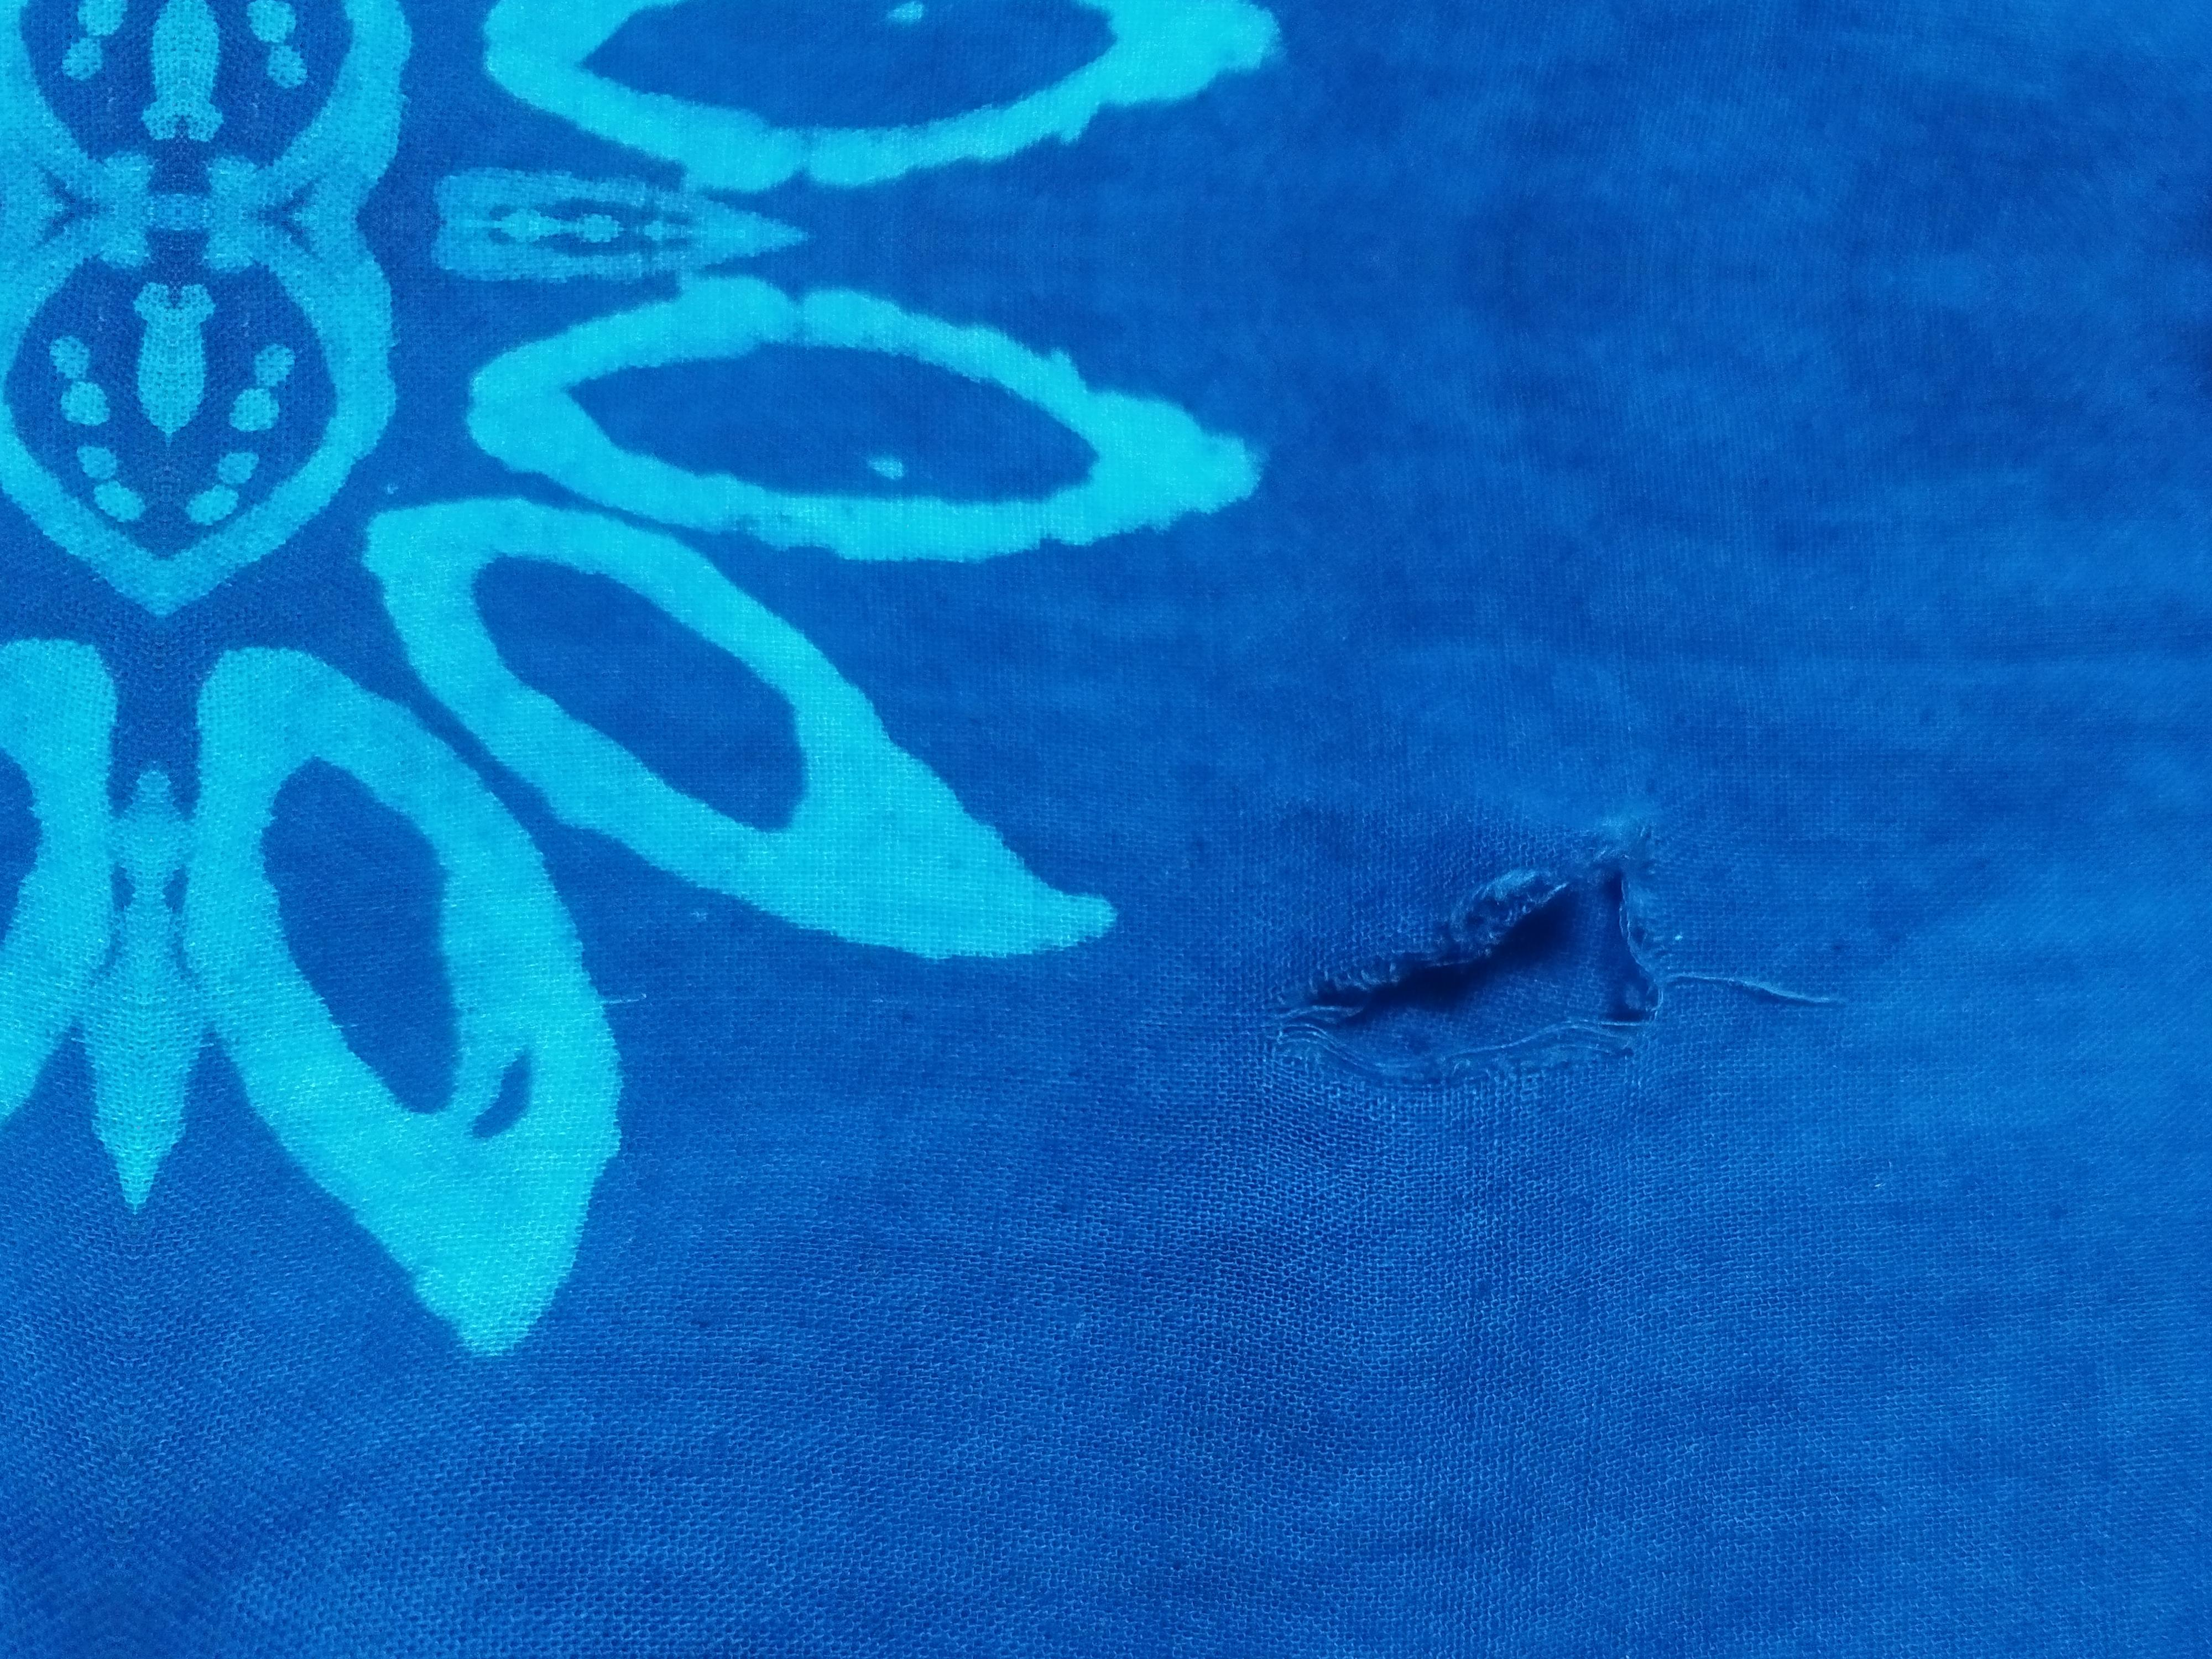hole: (1273, 819, 1728, 1114)
